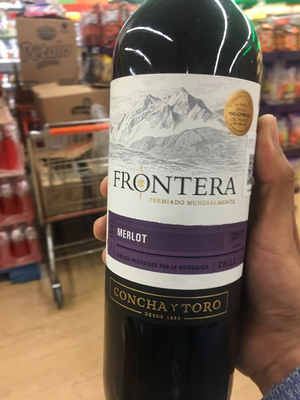frontera merlot: (104, 12, 271, 400)
